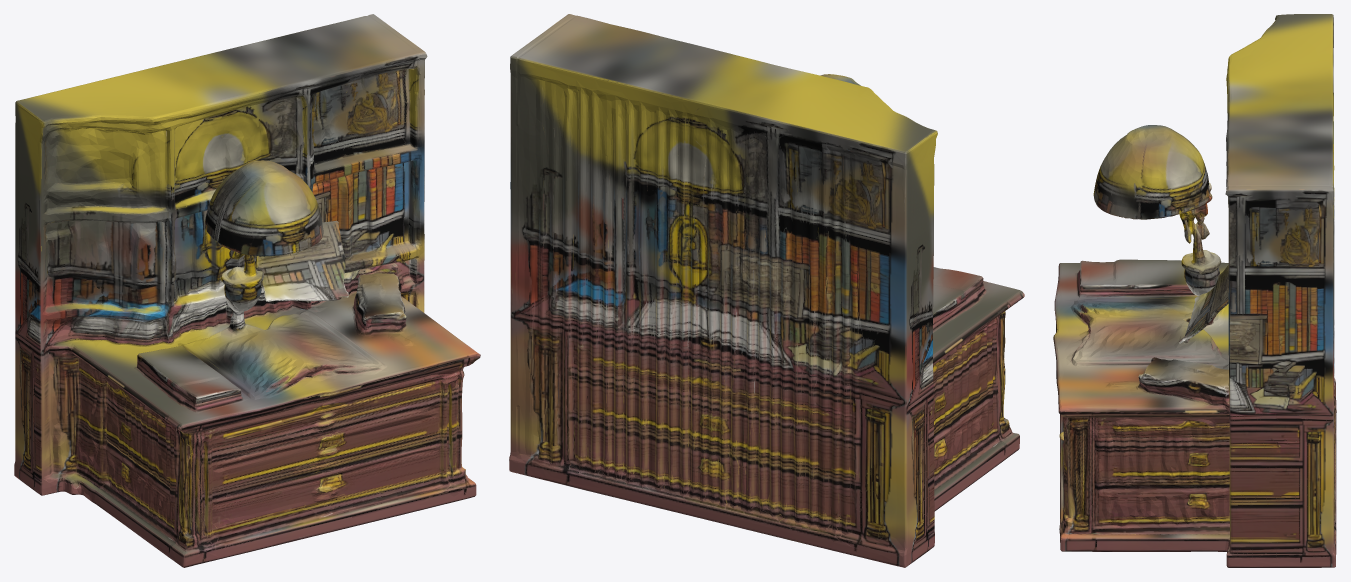
Rendered from altar_index.glb.
3 views of the same model, side by side, from view 1: azimuth 30°, elevation 25°; view 2: azimuth 150°, elevation 25°; view 3: azimuth 270°, elevation 25° (orthographic). The views are drawn at different scales.
Parts seen in each view (by area): view 1: altar_index; view 2: altar_index; view 3: altar_index.
Part boxes in pixels (x1=…): altar_index: x1=14, y1=14, x2=480, y2=567; altar_index: x1=509, y1=14, x2=1024, y2=567; altar_index: x1=1053, y1=14, x2=1336, y2=567.
Bounding box in the file's own units: 2.4 × 2.4 × 1.63.
Materials: 1 (1 with a texture image).
